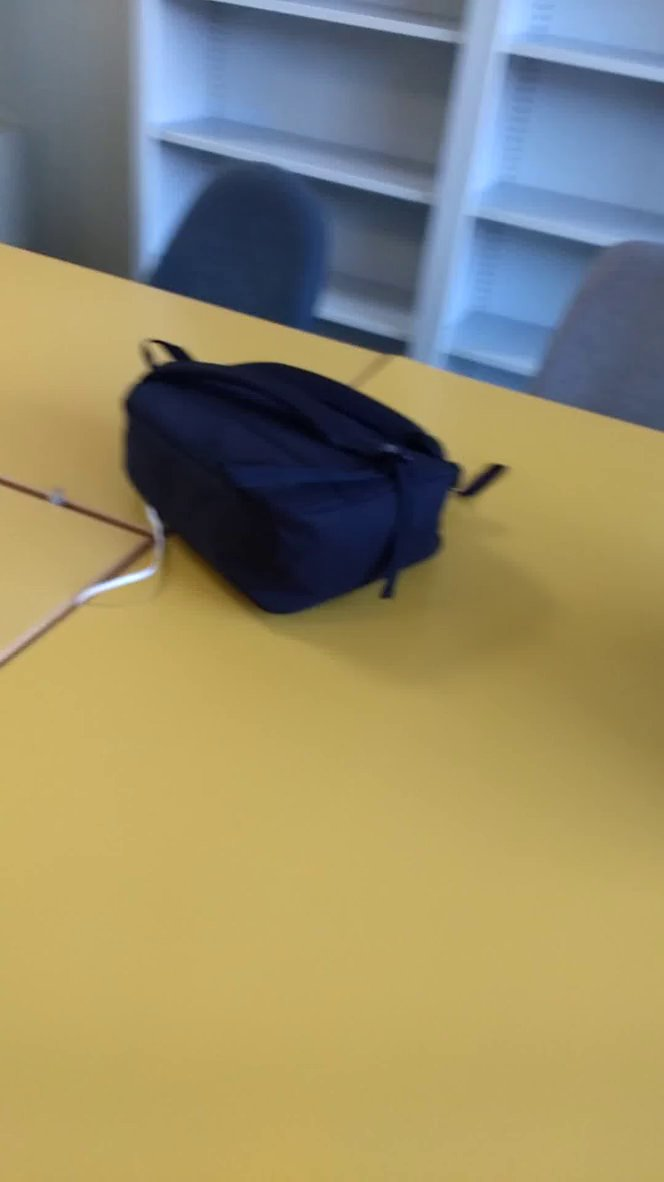bag: (106, 331, 541, 626)
chair: (125, 144, 342, 356)
